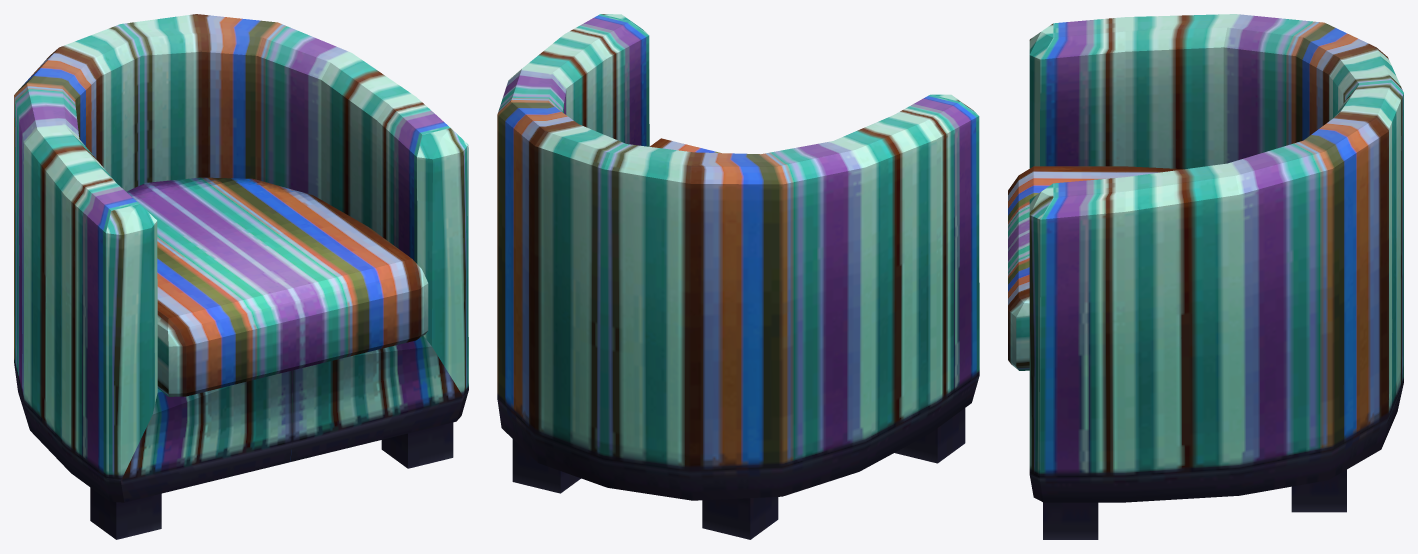
File: furni_0200613_03.FBX
3 renders of one model, left to right at view 1: azimuth 30°, elevation 25°; view 2: azimuth 150°, elevation 25°; view 3: azimuth 270°, elevation 25°, orthographic. The views are drawn at different scales.
Visible parts, largest first — view 1: furni_0200613_03; view 2: furni_0200613_03; view 3: furni_0200613_03.
Part boxes in pixels (bbox=[...]): furni_0200613_03: bbox=[14, 14, 468, 539]; furni_0200613_03: bbox=[497, 14, 979, 539]; furni_0200613_03: bbox=[1008, 14, 1403, 539].
Bounding box in the file's own units: 80 × 74.49 × 71.76.
Materials: 1 (1 with a texture image).
